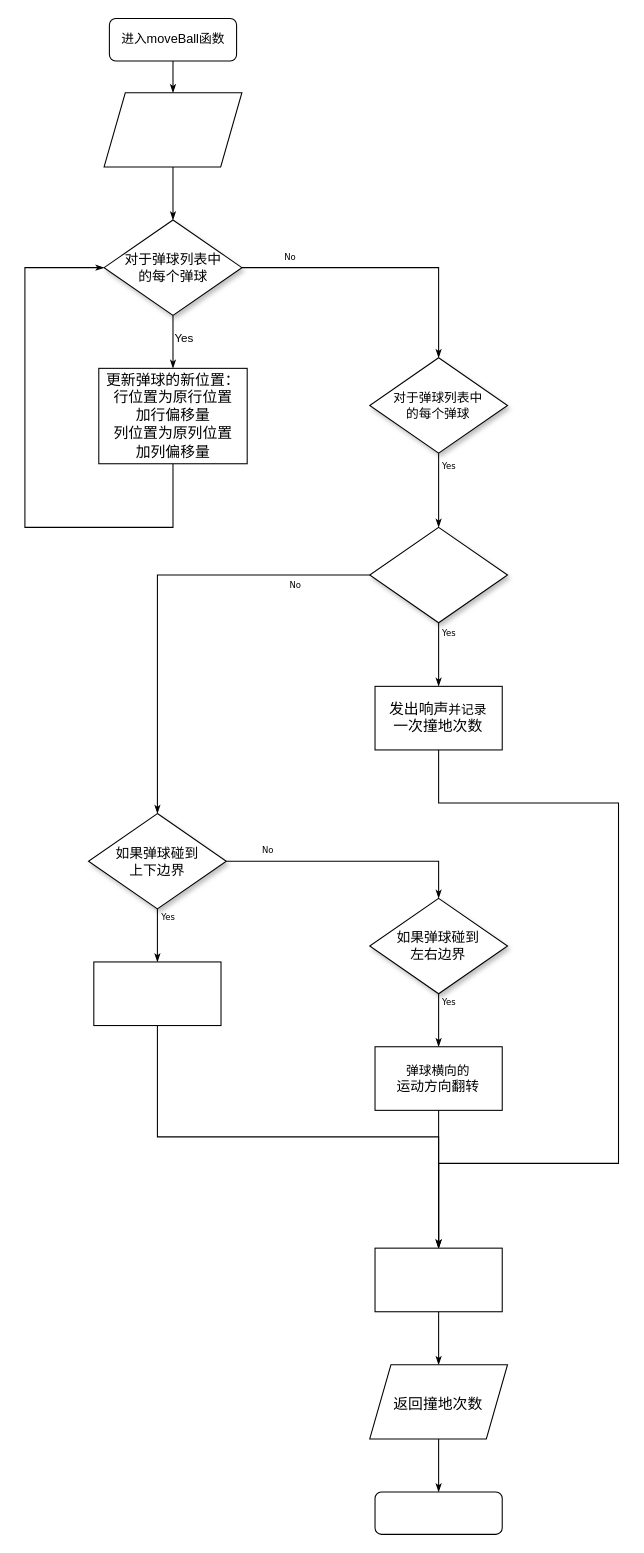
Image size: 644x1553. Some labels were removed from this diagram. The centre of each missing label's shape, as x and y in pixels:
"初始化弹球 撞地次数" goes at point (172, 129).
"四舍五入取整 更新弹球的实际位置" goes at point (438, 1279).
"如果弹球 碰到“地板”" goes at point (439, 576).
"弹球纵向的 运动方向翻转" goes at point (157, 993).
"结束moveBall函数" goes at point (438, 1512).
